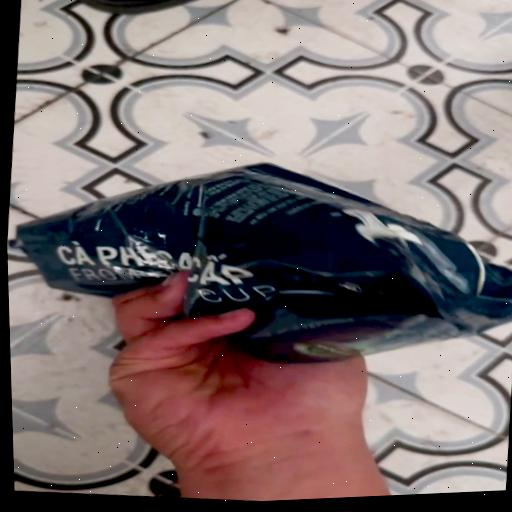cafe_hat: (10, 164, 512, 363)
